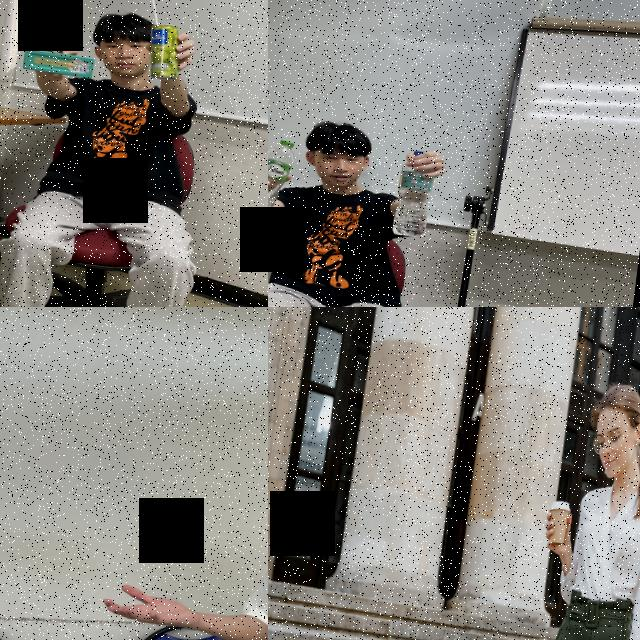bottle: (389, 146, 440, 240), (268, 134, 296, 219)
can: (143, 21, 185, 81)
cup: (544, 500, 571, 546)
